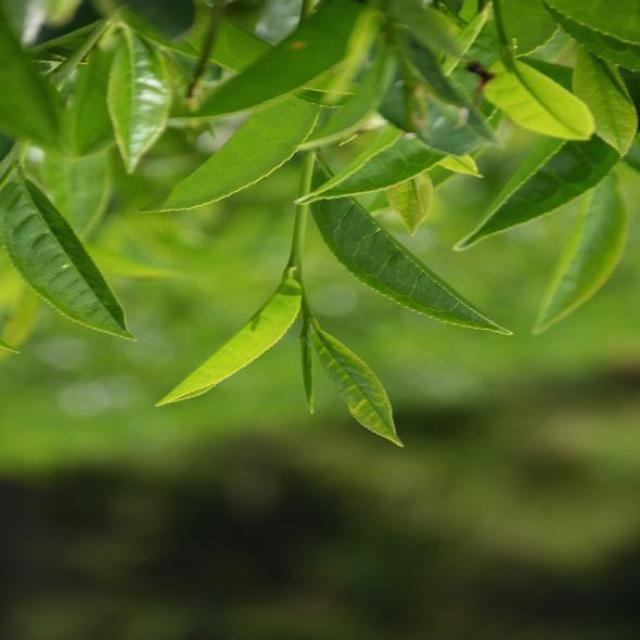Stem: (290, 256, 302, 269)
